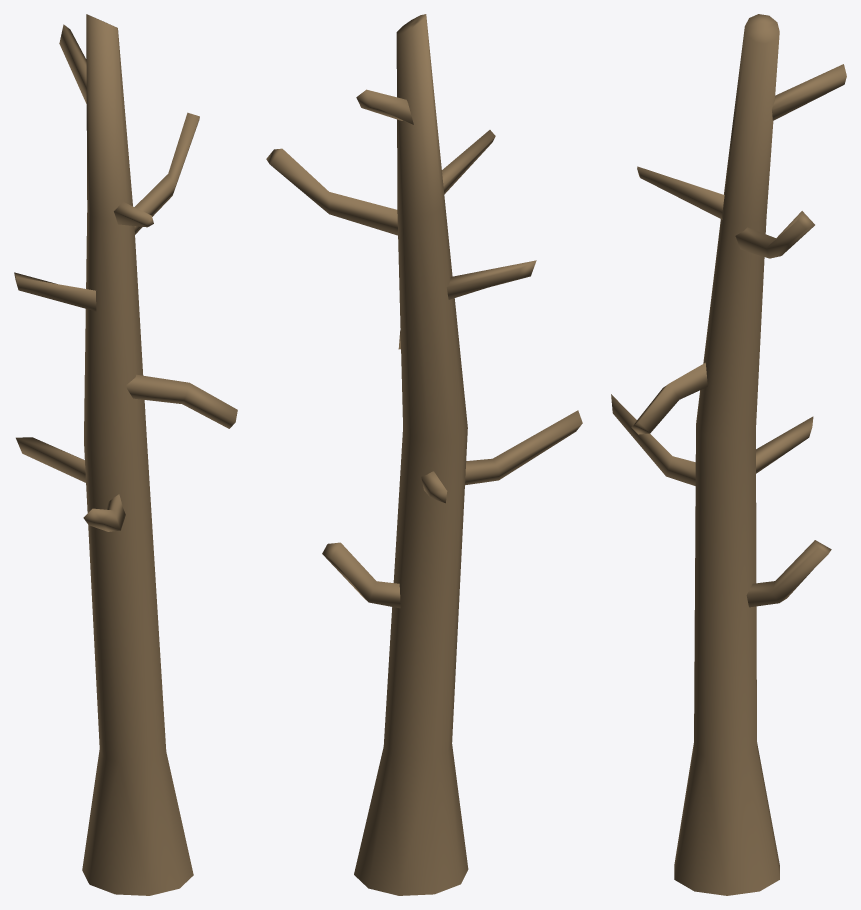
File: rpgpp_av_tree_pine_dead_01b.gltf
3 renders of one model, left to right at view 1: azimuth 30°, elevation 25°; view 2: azimuth 150°, elevation 25°; view 3: azimuth 270°, elevation 25°, orthographic. The views are drawn at different scales.
Parts seen in each view (by area): view 1: rpgpp_av_tree_pine_dead_01b; view 2: rpgpp_av_tree_pine_dead_01b; view 3: rpgpp_av_tree_pine_dead_01b.
Part boxes in pixels (x1,y1,x2,y2): rpgpp_av_tree_pine_dead_01b: [14, 14, 237, 895]; rpgpp_av_tree_pine_dead_01b: [266, 14, 582, 895]; rpgpp_av_tree_pine_dead_01b: [611, 14, 846, 895].
Size of the model in its own units: 0.0172 by 0.0627 by 0.0159.
1 material, 1 textured.
